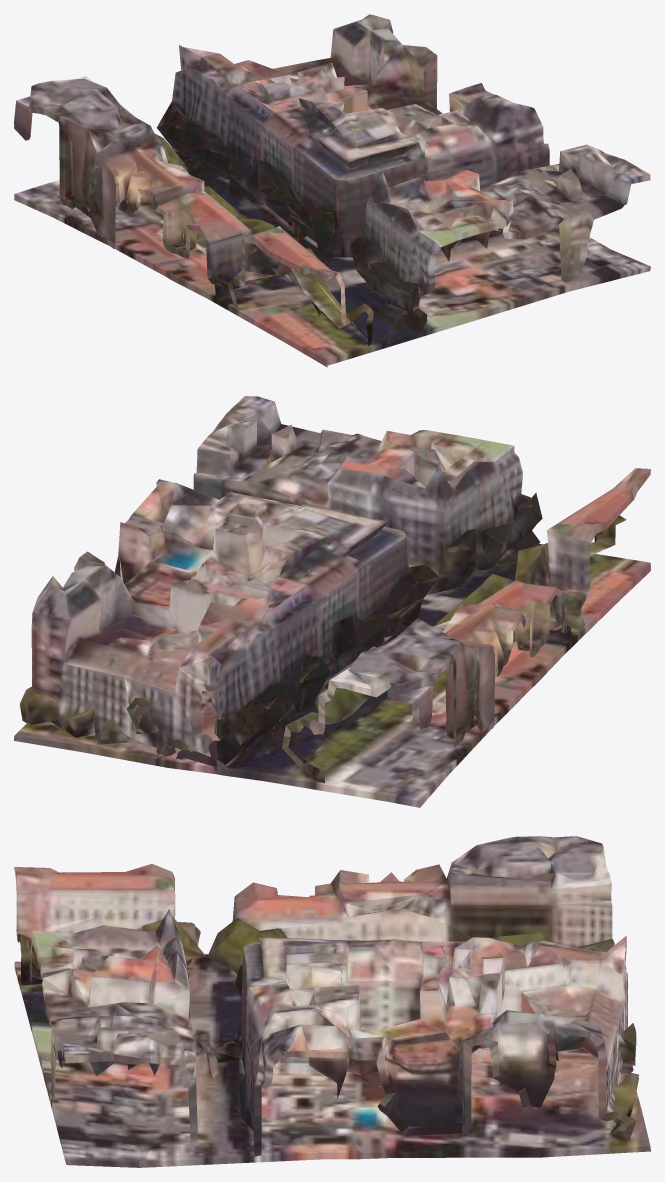
The picture shows the model from 3 angles, top to bottom: view 1: azimuth 30°, elevation 25°; view 2: azimuth 150°, elevation 25°; view 3: azimuth 270°, elevation 25°; orthographic projection. The views are drawn at different scales.
Visible parts, largest first — view 1: Mesh_0; view 2: Mesh_0; view 3: Mesh_0.
Part boxes in pixels (left/top/right/bottom): Mesh_0: left=14, top=14, right=650, bottom=367; Mesh_0: left=14, top=396, right=650, bottom=807; Mesh_0: left=14, top=836, right=650, bottom=1167.
Bounding box in the file's own units: 133 × 43.03 × 165.
1 material, 1 textured.
